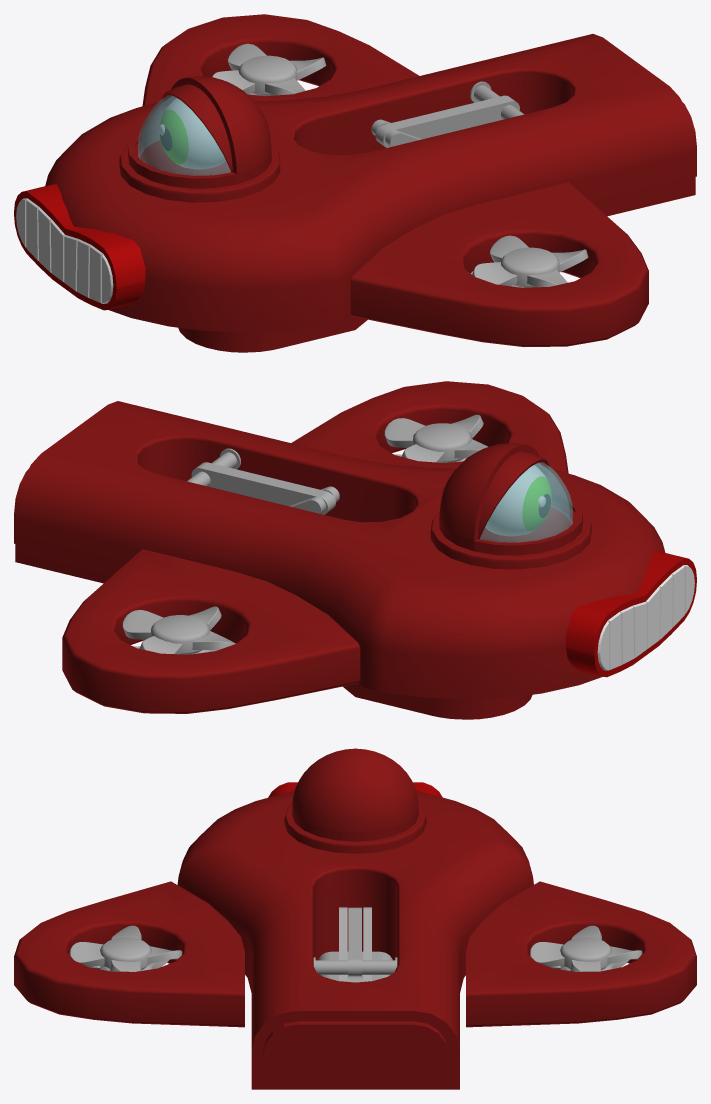
Rendered from Lucy_01.fbx.
3 views of the same model, one above another, from view 1: azimuth 30°, elevation 25°; view 2: azimuth 150°, elevation 25°; view 3: azimuth 270°, elevation 25° (orthographic). The views are drawn at different scales.
Parts seen in each view (by area): view 1: Lucy_Body, Lucy_Wings, Lucy_EyeShield, Lucy_Glass, Lucy_TopLeftFan, Lucy_TopRightFan, Lucy_EyeBall, BeamArm_01, Lucy_EyeLid, pCylinder15, BeamArm_02; view 2: Lucy_Body, Lucy_Wings, Lucy_EyeShield, Lucy_Glass, Lucy_TopRightFan, Lucy_TopLeftFan, Lucy_EyeBall, BeamArm_01, Lucy_EyeLid, pCylinder15, BeamArm_02; view 3: Lucy_Body, Lucy_Wings, Lucy_EyeShield, Lucy_TopRightFan, Lucy_TopLeftFan, BeamArm_02, pCylinder15, BeamArm_01, Beam.
Boxes of the visible parts, box(x1,y1,x2,y2) form: Lucy_Body: box(14, 34, 696, 352); Lucy_Wings: box(142, 14, 648, 347); Lucy_EyeShield: box(119, 76, 280, 202); Lucy_Glass: box(138, 95, 230, 175); Lucy_TopLeftFan: box(472, 235, 588, 287); Lucy_TopRightFan: box(212, 43, 326, 95); Lucy_EyeBall: box(159, 98, 225, 169); BeamArm_01: box(375, 95, 519, 147); Lucy_EyeLid: box(161, 84, 232, 172); pCylinder15: box(470, 81, 524, 119); BeamArm_02: box(371, 119, 421, 146); Lucy_Body: box(14, 401, 696, 719); Lucy_Wings: box(62, 381, 568, 713); Lucy_EyeShield: box(430, 443, 591, 569); Lucy_Glass: box(480, 462, 572, 542); Lucy_TopRightFan: box(122, 606, 235, 654); Lucy_TopLeftFan: box(384, 414, 488, 462); Lucy_EyeBall: box(485, 465, 551, 535); BeamArm_01: box(191, 462, 335, 514); Lucy_EyeLid: box(478, 451, 549, 539); pCylinder15: box(187, 448, 240, 486); BeamArm_02: box(289, 486, 339, 513); Lucy_Body: box(177, 782, 533, 1089); Lucy_Wings: box(14, 881, 696, 1027); Lucy_EyeShield: box(284, 748, 426, 853); Lucy_TopRightFan: box(530, 925, 642, 971); Lucy_TopLeftFan: box(69, 925, 182, 971); BeamArm_02: box(339, 907, 371, 981); pCylinder15: box(313, 957, 397, 974); BeamArm_01: box(348, 907, 361, 976); Beam: box(318, 951, 392, 982).
Size of the model in its own units: 1.03 by 0.4272 by 1.19.
